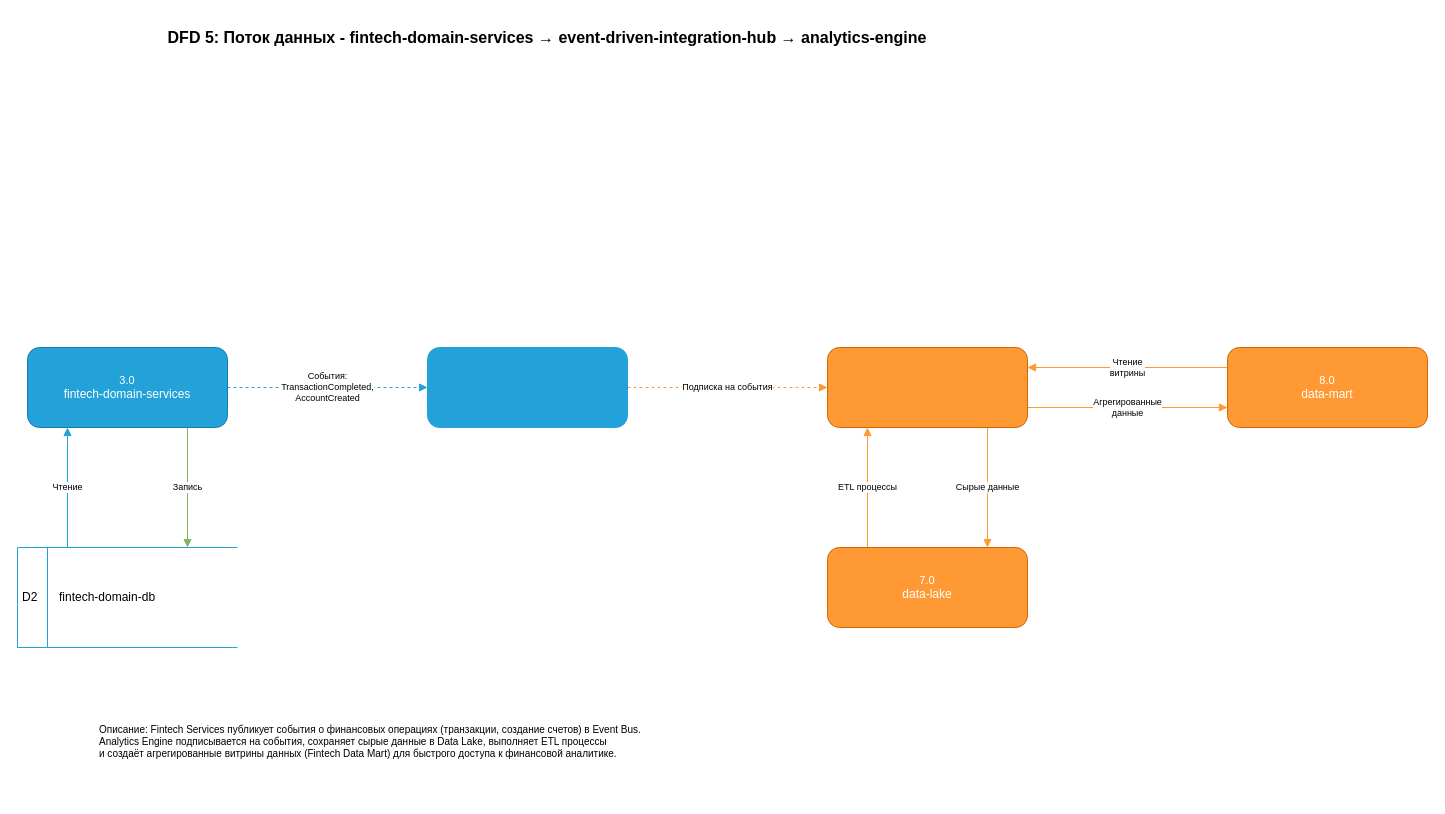
Image size: 1445x814. Some labels were removed from this diagram. Each missing label, with the centre of its shape:
"5.0 event-driven-integration-hub" goes at (527,387).
"6.0 analytics-engine" goes at (927,387).
